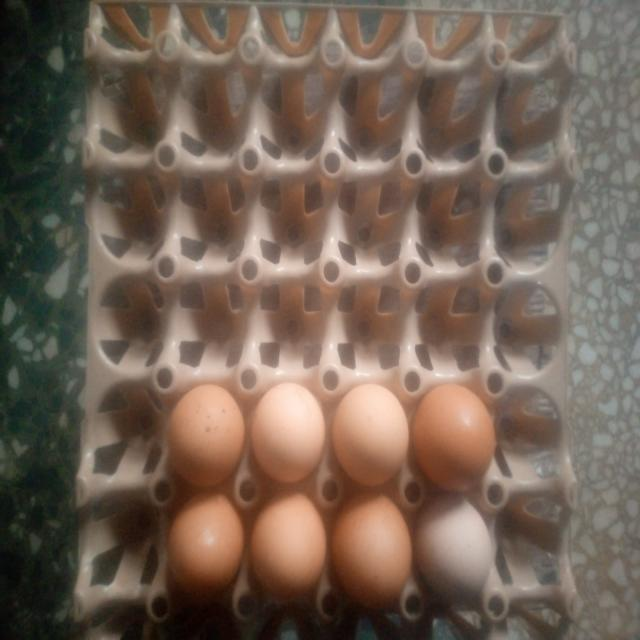Eggs: (334, 499, 414, 610), (418, 502, 498, 610), (164, 379, 243, 487), (418, 386, 499, 491), (166, 499, 242, 606), (250, 383, 328, 487), (334, 384, 410, 484), (254, 500, 328, 600)
